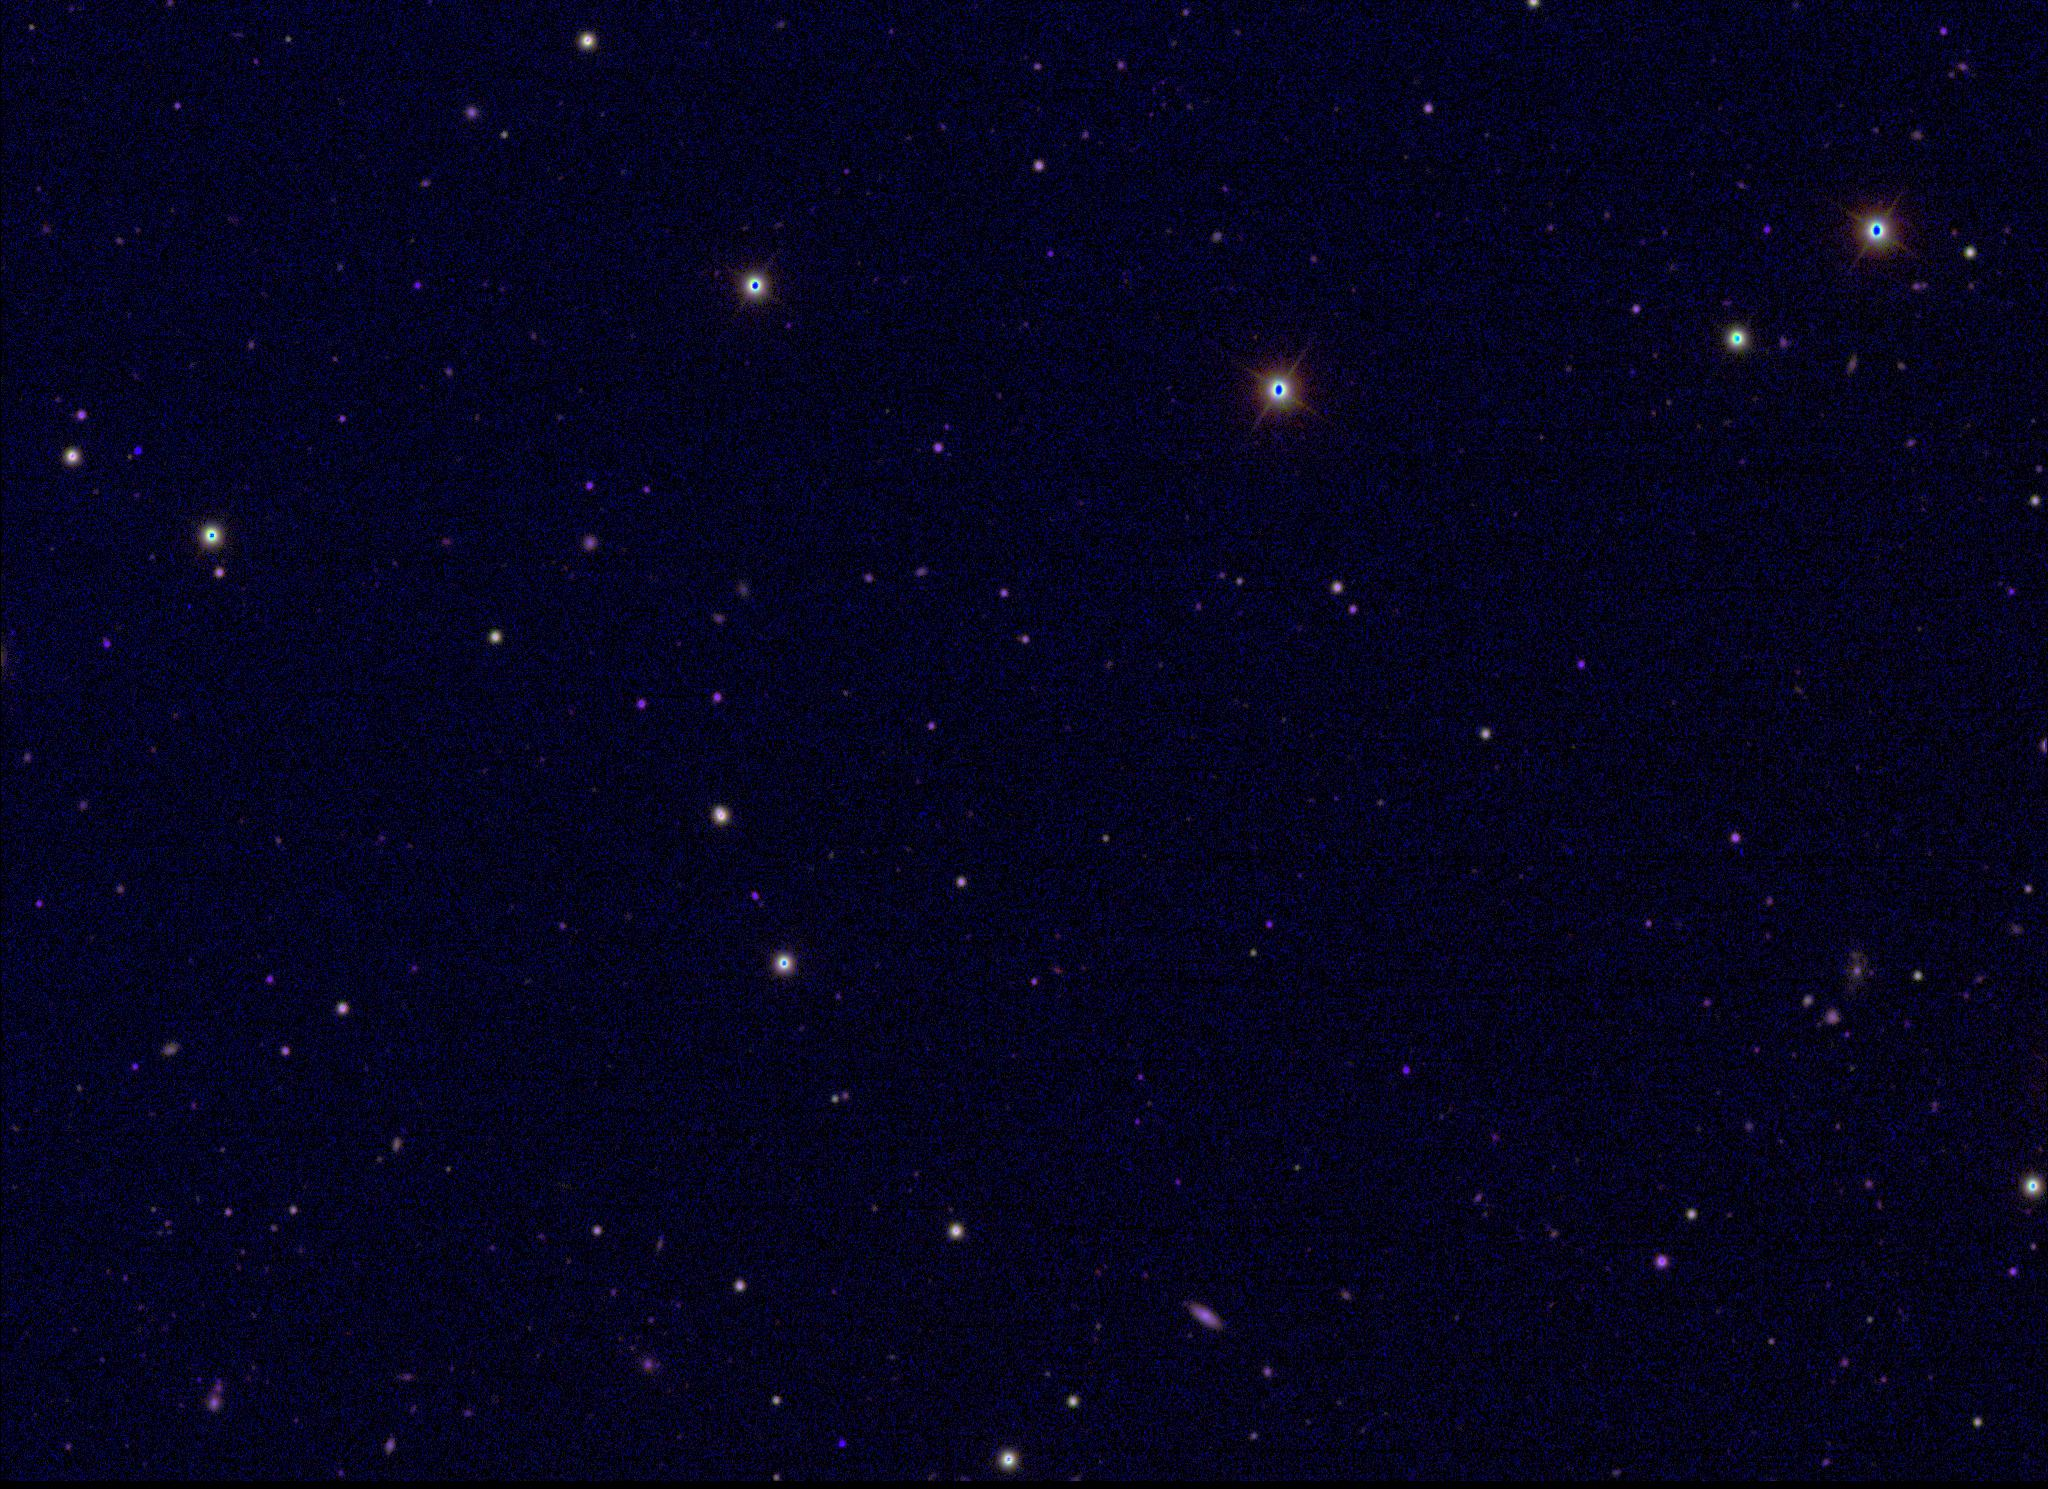L: (130, 439, 145, 453)
